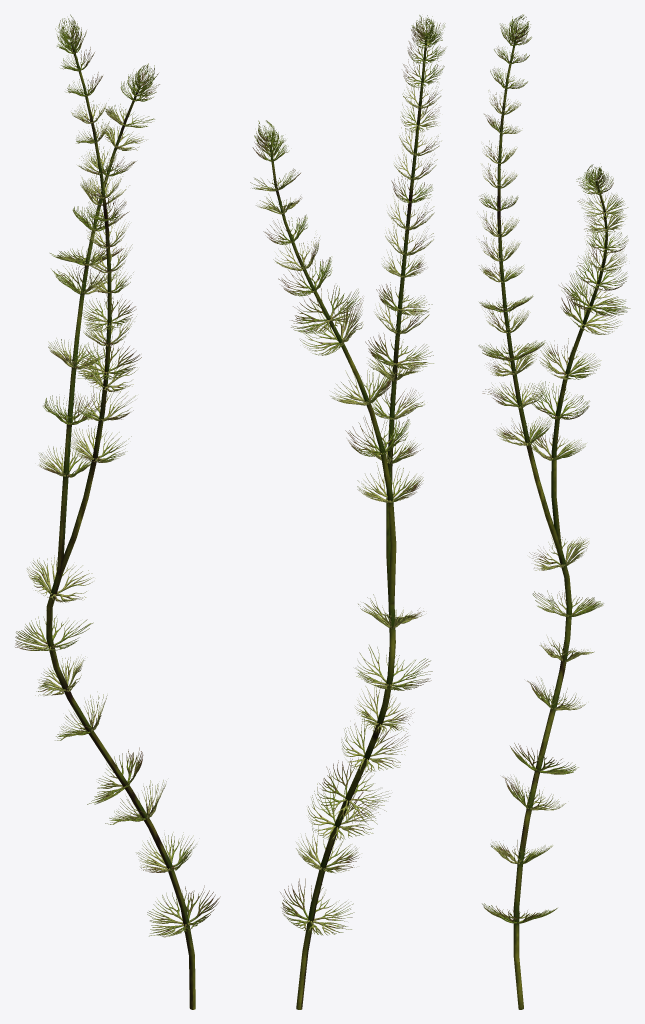
File: rogatek-krotkoszyjkowy-2.obj
The picture shows the model from 3 angles, left to right: view 1: azimuth 30°, elevation 25°; view 2: azimuth 150°, elevation 25°; view 3: azimuth 270°, elevation 25°; orthographic projection. The views are drawn at different scales.
Parts seen in each view (by area): view 1: BézierCurve.004; view 2: BézierCurve.004; view 3: BézierCurve.004.
Boxes of the visible parts, bbox=[...] form: BézierCurve.004: bbox=[15, 14, 220, 1009]; BézierCurve.004: bbox=[250, 15, 445, 1009]; BézierCurve.004: bbox=[478, 14, 630, 1009].
Size of the model in its own units: 0.129 by 0.7347 by 0.1096.
